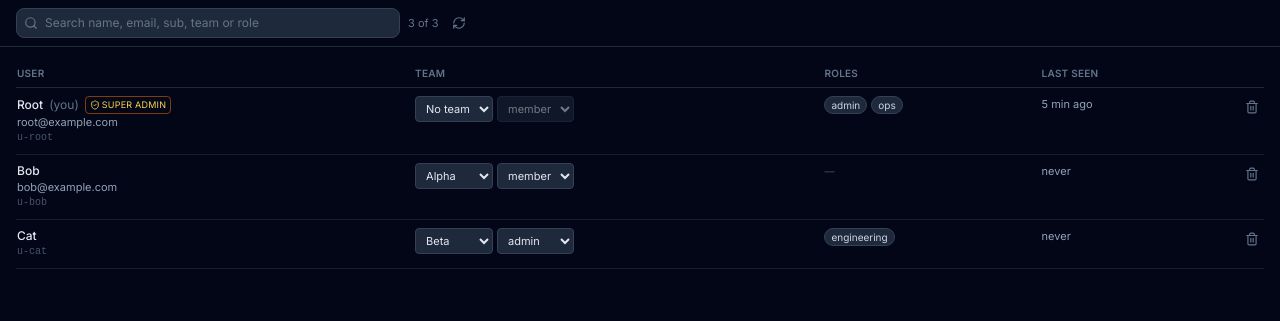
Test: the users table › shows the backend's reason when a change is refused
Select "Beta" in the dropdown named "Team of Bob" at (454, 176), box [415,163,493,189]
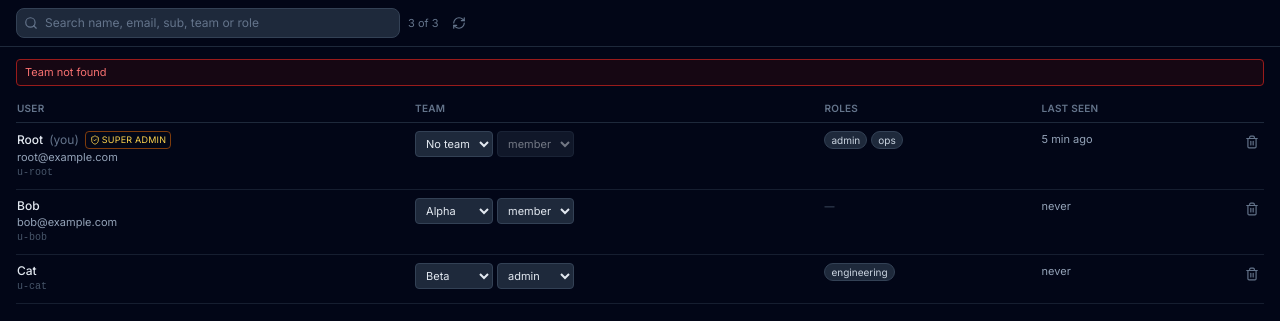
Expected: the message reads "Team not found", [25,65,106,79]
